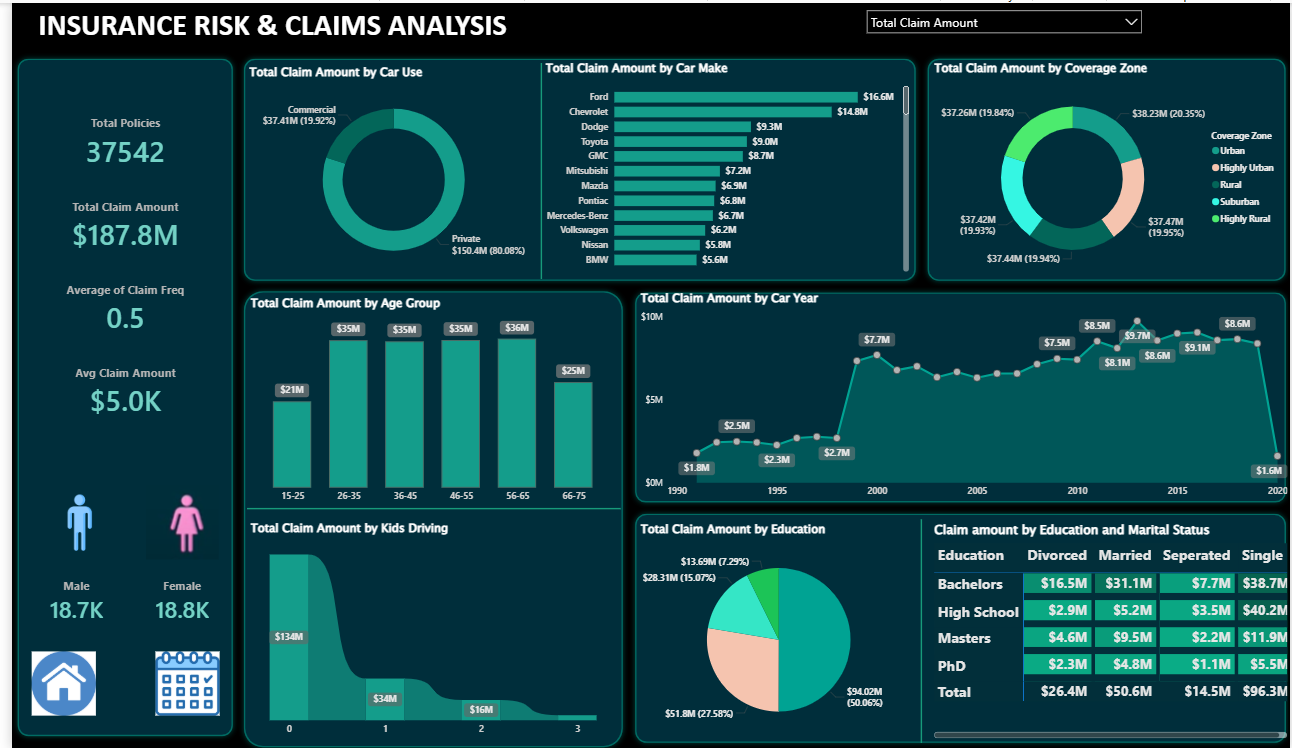

This screenshot's page, from the dashboard's own definition file:
{"tool":"powerbi","page":{"name":"Page 1","canvas":[1800,1050],"ordinal":0},"visuals":[{"type":"textbox","box":[9.6,0,716.3,70],"z":0},{"type":"shape","box":[0,70,318.9,969.5],"z":1000},{"type":"cardVisual","fields":{"Data":["_Measures.Total Policies","_Measures.Total Claim Amount","Avg(insurance_data_car.Claim Freq)","_Measures.Avg Claim Amount"]},"box":[22.9,140.6,274.7,461.1],"z":2000},{"type":"cardVisual","fields":{"Data":["_Measures.Male Count","_Measures.Female Count"]},"box":[21.1,775.9,288.5,132],"z":3000},{"type":"image","box":[51,685.3,89,89.7],"z":4000},{"type":"slicer","fields":{"Values":["Select Measure.Select Measure"]},"box":[1192.3,0,407.5,70],"z":5000},{"type":"shape","box":[318.9,70.3,961.5,328.7],"z":6000},{"type":"donutChart","fields":{"Y":["_Measures.Total Policies"],"Category":["insurance_data_car.Car Use"]},"box":[328.7,85,417,304.1],"z":7000},{"type":"shape","box":[318.9,398.1,549.3,658],"z":8000},{"type":"shape","box":[868.5,399.4,931.8,311.7],"z":9000},{"type":"clusteredBarChart","fields":{"Y":["_Measures.Total Policies"],"Category":["insurance_data_car.Car Make"]},"box":[745.6,78.5,521.6,304.1],"z":10000},{"type":"shape","box":[1280.3,70.3,520,328.7],"z":11000},{"type":"donutChart","fields":{"Y":["_Measures.Total Policies"],"Category":["insurance_data_car.Coverage Zone"]},"box":[1293.4,78.5,506.9,310.7],"z":12000},{"type":"clusteredColumnChart","fields":{"Y":["_Measures.Total Policies"],"Category":["insurance_data_car.Age Group"]},"box":[329.9,409.2,525.3,302.3],"z":13000},{"type":"ribbonChart","fields":{"Y":["_Measures.Total Policies"],"Category":["insurance_data_car.Kids Driving"]},"box":[330.8,726.6,524.3,313.2],"z":14000},{"type":"areaChart","fields":{"Y":["_Measures.Total Policies"],"Category":["insurance_data_car.Car Year"]},"box":[879.7,402.3,920.6,302.5],"z":15000},{"type":"shape","box":[868.3,711.3,932.1,338.5],"z":16000},{"type":"pieChart","fields":{"Y":["_Measures.Total Policies"],"Category":["insurance_data_car.Education"]},"box":[879.7,728.4,399.4,311.4],"z":17000},{"type":"pivotTable","title":"Claim amount by  Education and Marital Status","fields":{"Rows":["insurance_data_car.Education"],"Columns":["insurance_data_car.Marital Status"],"Values":["_Measures.Total Claim Amount"]},"box":[1293.2,728.4,506.7,311.4],"z":18000},{"type":"shape","box":[330.8,687.9,526.1,47.5],"z":19000},{"type":"shape","box":[1256.2,726.6,47.5,314.9],"z":19001},{"type":"shape","box":[721.4,84.5,47.5,304.4],"z":19003},{"type":"image","box":[183,673,114.4,114.4],"z":19004},{"type":"image","box":[22.9,907.8,100.3,100.3],"z":19005},{"type":"image","box":[197.1,907.8,100.3,100.3],"z":19006}]}

Visuals, with their boxes in screenshot pixels (x1, y1, x2, y2), scaled from the page's 1800x1050 canvas onto the 1292x748 screenshot:
textbox: {"x1": 7, "y1": 0, "x2": 521, "y2": 50}
shape: {"x1": 0, "y1": 50, "x2": 229, "y2": 741}
cardVisual - _Measures.Total Policies x _Measures.Total Claim Amount: {"x1": 16, "y1": 100, "x2": 214, "y2": 429}
cardVisual - _Measures.Male Count x _Measures.Female Count: {"x1": 15, "y1": 553, "x2": 222, "y2": 647}
image: {"x1": 37, "y1": 488, "x2": 100, "y2": 552}
slicer - Select Measure.Select Measure: {"x1": 856, "y1": 0, "x2": 1148, "y2": 50}
shape: {"x1": 229, "y1": 50, "x2": 919, "y2": 284}
donutChart - _Measures.Total Policies x insurance_data_car.Car Use: {"x1": 236, "y1": 61, "x2": 535, "y2": 277}
shape: {"x1": 229, "y1": 284, "x2": 623, "y2": 747}
shape: {"x1": 623, "y1": 285, "x2": 1291, "y2": 507}
clusteredBarChart - _Measures.Total Policies x insurance_data_car.Car Make: {"x1": 535, "y1": 56, "x2": 910, "y2": 273}
shape: {"x1": 919, "y1": 50, "x2": 1291, "y2": 284}
donutChart - _Measures.Total Policies x insurance_data_car.Coverage Zone: {"x1": 928, "y1": 56, "x2": 1291, "y2": 277}
clusteredColumnChart - _Measures.Total Policies x insurance_data_car.Age Group: {"x1": 237, "y1": 292, "x2": 614, "y2": 507}
ribbonChart - _Measures.Total Policies x insurance_data_car.Kids Driving: {"x1": 237, "y1": 518, "x2": 614, "y2": 741}
areaChart - _Measures.Total Policies x insurance_data_car.Car Year: {"x1": 631, "y1": 287, "x2": 1291, "y2": 502}
shape: {"x1": 623, "y1": 507, "x2": 1291, "y2": 747}
pieChart - _Measures.Total Policies x insurance_data_car.Education: {"x1": 631, "y1": 519, "x2": 918, "y2": 741}
"Claim amount by  Education and Marital Status" pivotTable: {"x1": 928, "y1": 519, "x2": 1291, "y2": 741}
shape: {"x1": 237, "y1": 490, "x2": 615, "y2": 524}
shape: {"x1": 902, "y1": 518, "x2": 936, "y2": 742}
shape: {"x1": 518, "y1": 60, "x2": 552, "y2": 277}
image: {"x1": 131, "y1": 479, "x2": 213, "y2": 561}
image: {"x1": 16, "y1": 647, "x2": 88, "y2": 718}
image: {"x1": 141, "y1": 647, "x2": 213, "y2": 718}
